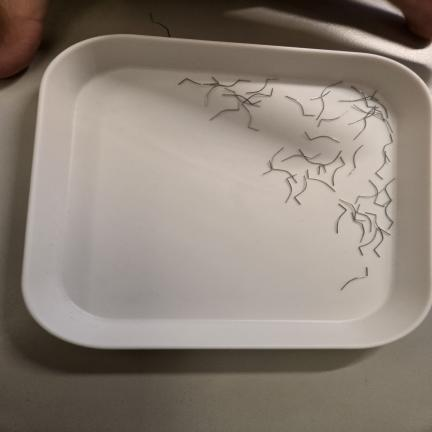probe: (341, 267, 368, 290), (285, 96, 314, 117), (317, 110, 349, 127), (349, 145, 363, 175), (305, 132, 340, 142), (336, 205, 347, 233)
